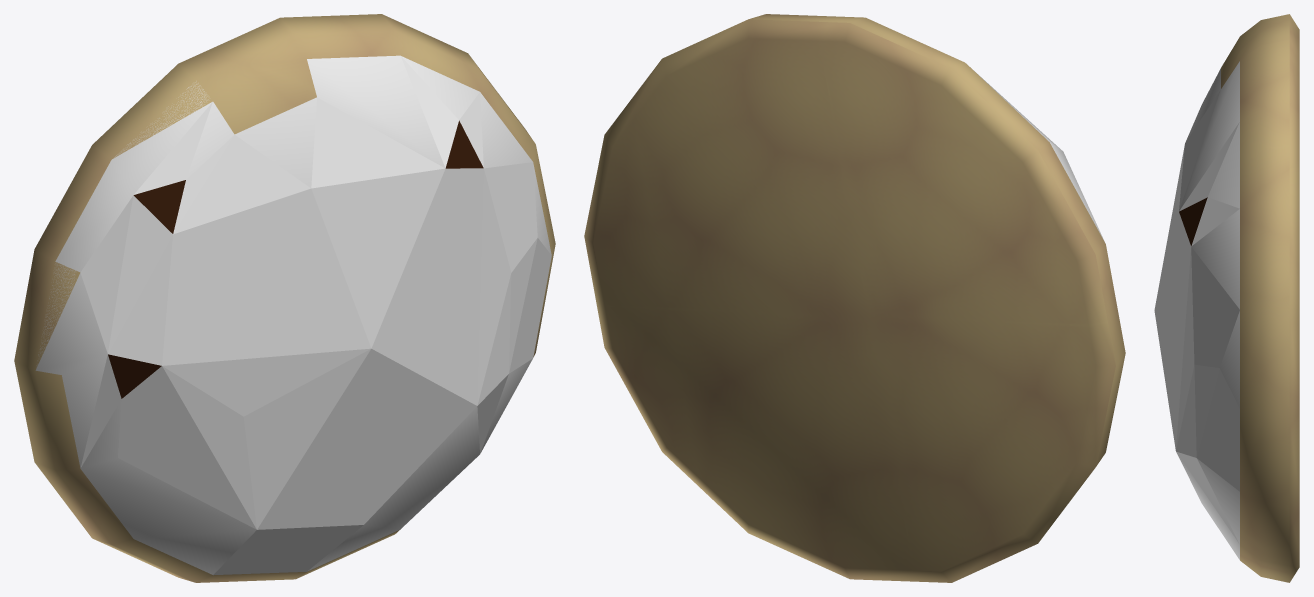
File: Cookie.fbx
3 views of the same model, side by side, from view 1: azimuth 30°, elevation 25°; view 2: azimuth 150°, elevation 25°; view 3: azimuth 270°, elevation 25° (orthographic). The views are drawn at different scales.
Parts seen in each view (by area): view 1: COL_Cookie, Cookie; view 2: Cookie, COL_Cookie; view 3: Cookie, COL_Cookie.
Part boxes in pixels (x1,y1,x2,y2): COL_Cookie: [35, 55, 551, 575]; Cookie: [14, 14, 555, 582]; Cookie: [584, 14, 1125, 582]; COL_Cookie: [974, 71, 1104, 241]; Cookie: [1179, 14, 1299, 582]; COL_Cookie: [1154, 61, 1239, 559].
Bounding box in the file's own units: 0.7805 × 0.7805 × 0.1988.
